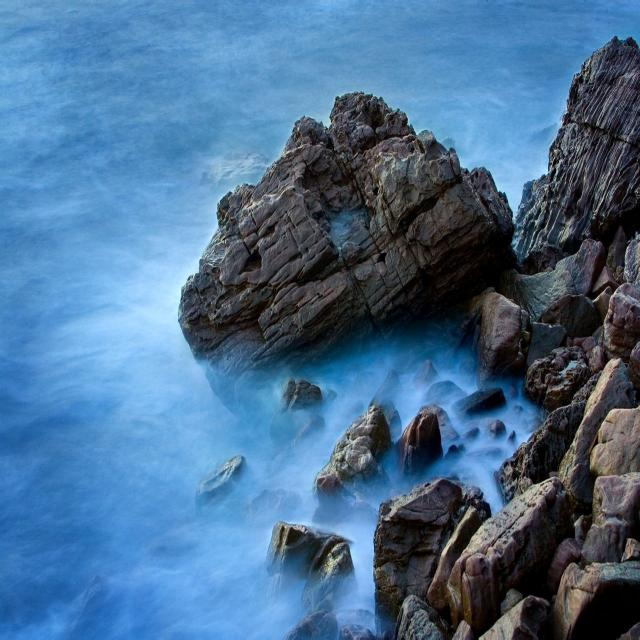reef: (228, 14, 640, 640)
